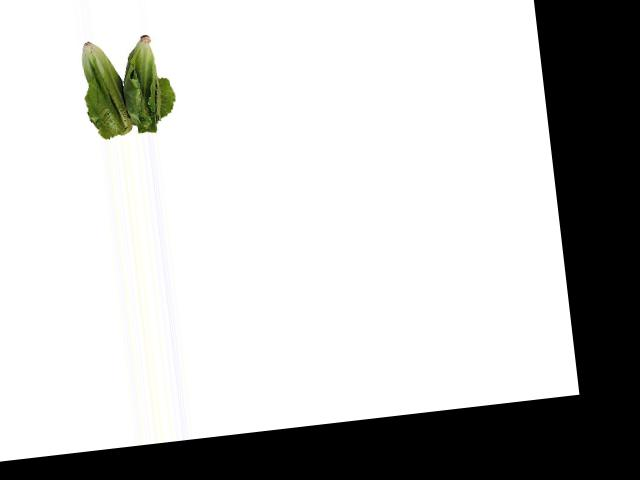lettuce: (73, 32, 169, 141)
